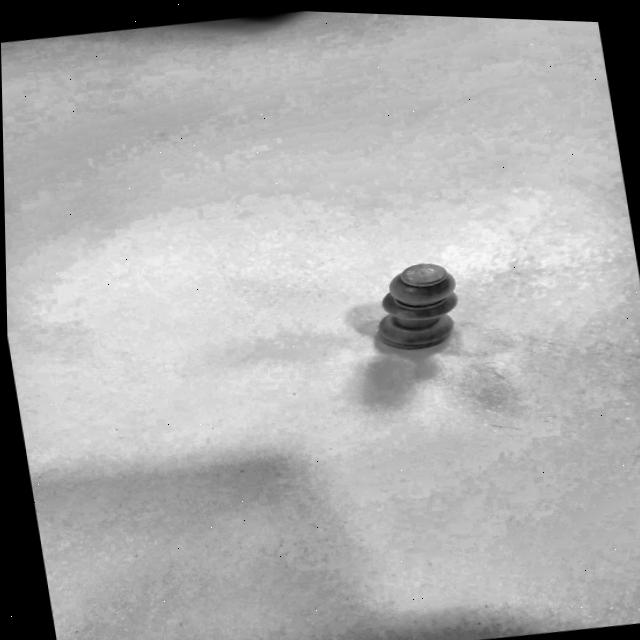white-bishop: (344, 243, 492, 370)
